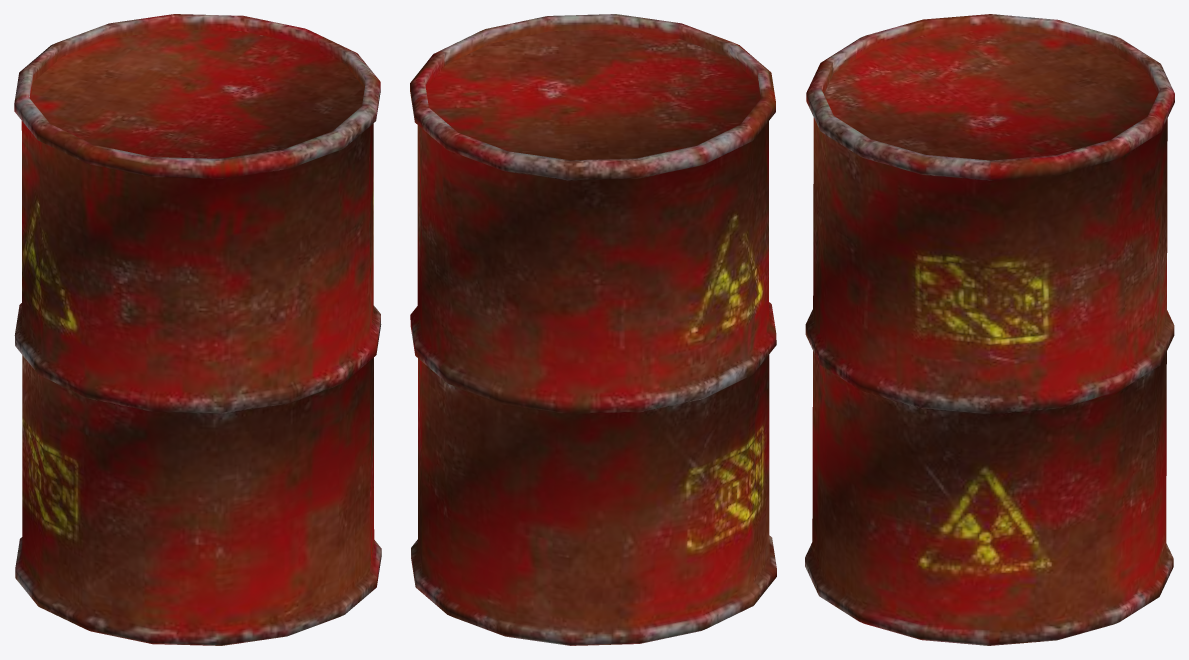
Rendered from barrel.glb.
3 renders of one model, left to right at view 1: azimuth 30°, elevation 25°; view 2: azimuth 150°, elevation 25°; view 3: azimuth 270°, elevation 25°, orthographic.
Parts seen in each view (by area): view 1: barrel; view 2: barrel; view 3: barrel.
Part boxes in pixels (bbox=[...]): barrel: bbox=[14, 14, 381, 645]; barrel: bbox=[410, 14, 776, 645]; barrel: bbox=[805, 14, 1174, 645].
Size of what is drawn, in the model's own units: 0.7551 by 1.09 by 0.758.
1 material, 1 textured.
